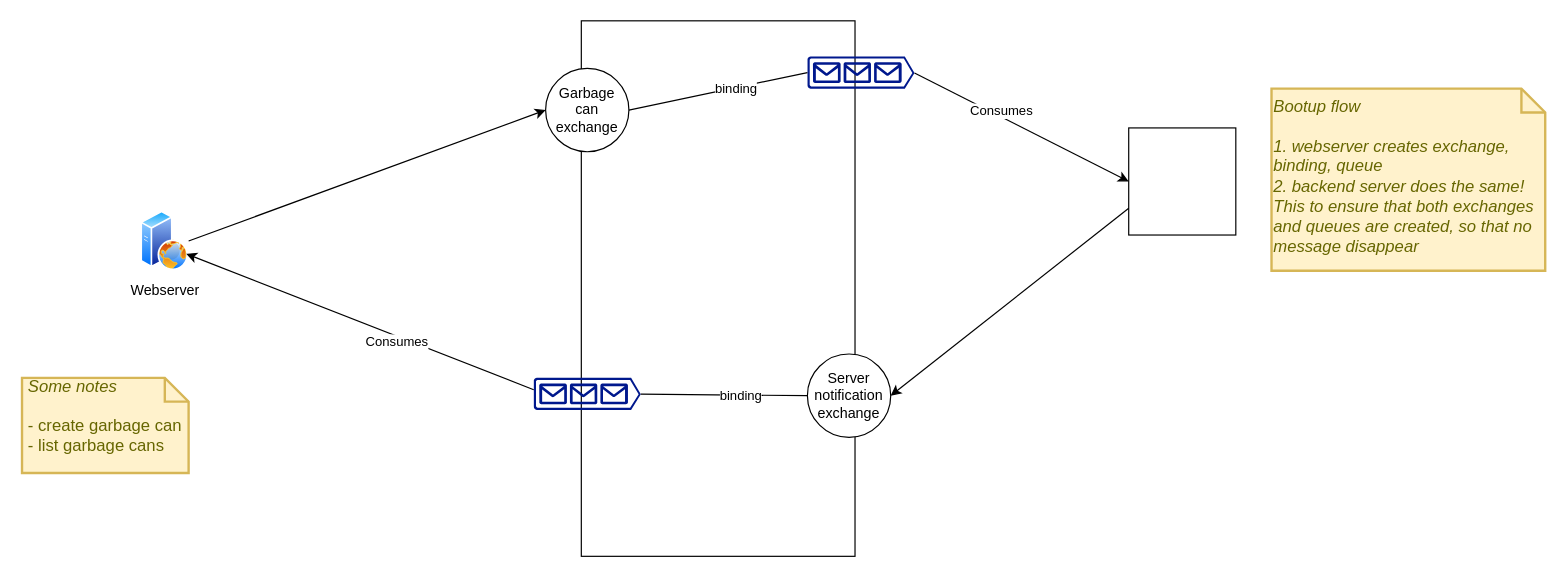
This 1566x577 diagram has some shape labels left out. Each missing label, with the box of its shape:
Backend server w/ OTP structure: (1128, 127, 1236, 235)
manager-operations: (807, 56, 914, 88)
webserver queue: (533, 377, 640, 409)
